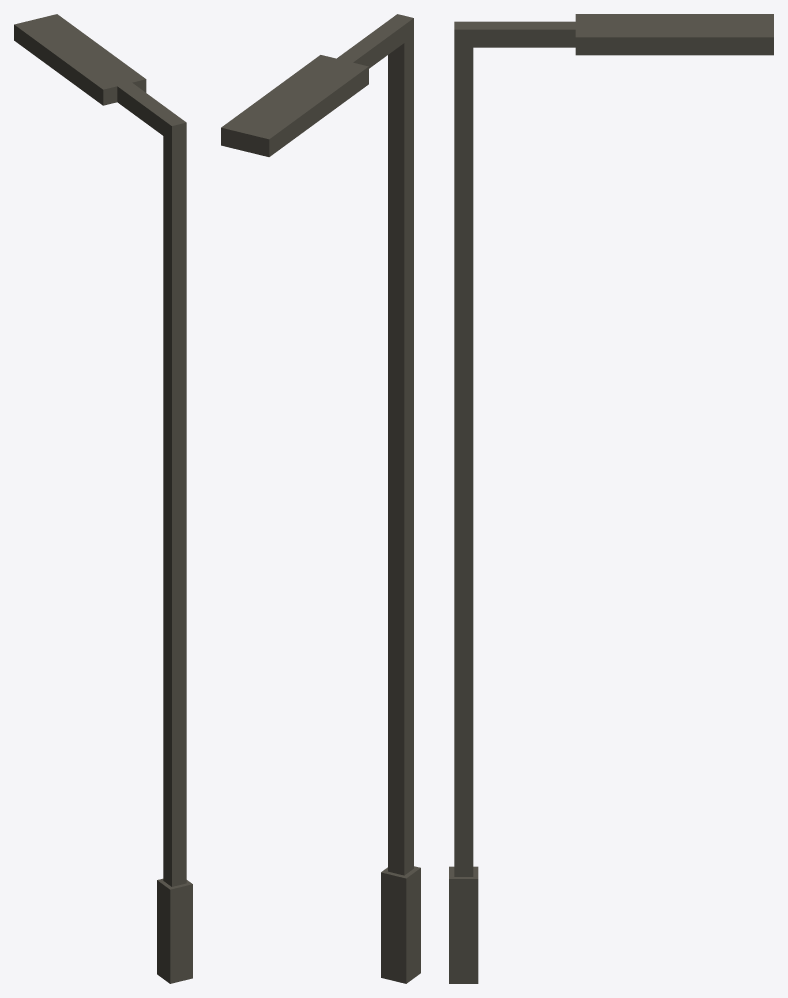
File: CityLamp_01.fbx
3 views of the same model, side by side, from view 1: azimuth 30°, elevation 25°; view 2: azimuth 150°, elevation 25°; view 3: azimuth 270°, elevation 25° (orthographic). The views are drawn at different scales.
Visible parts, largest first — view 1: CityLamp_01; view 2: CityLamp_01; view 3: CityLamp_01.
Part boxes in pixels (x1,y1,x2,y2): CityLamp_01: (14, 14, 192, 983); CityLamp_01: (221, 14, 420, 983); CityLamp_01: (449, 14, 773, 983).
Size of the model in its own units: 0.0464 by 0.8801 by 0.2721.
